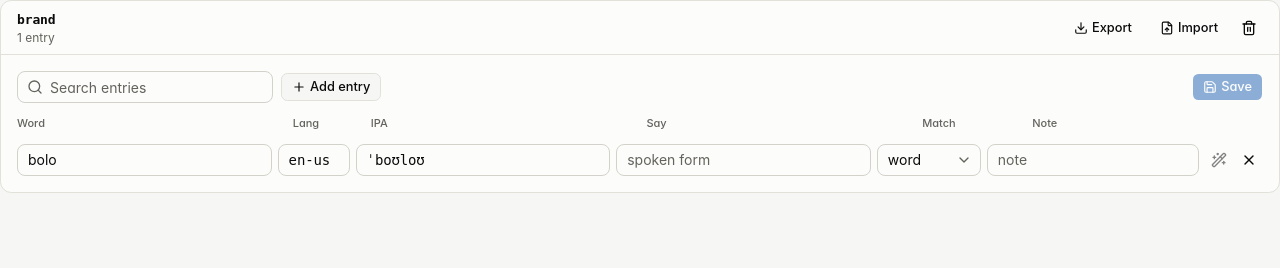
Scenario: WordListEditor › edits rows, saves TSV and shows warnings next to their rows
Check: the field showing "bolo" is shown, box [17, 144, 272, 176]
Check: the button with test id "wordlist-save" is disabled, box [1192, 73, 1263, 101]
Step 1. Click the button with test id "wordlist-add" → point(331, 87), box [281, 73, 381, 101]
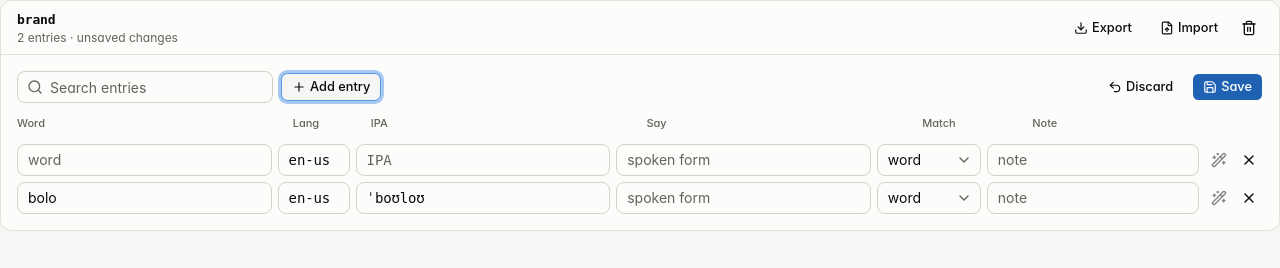
Step 2. Type "MH12" into the field named "Word, entry 1" → point(144, 160), box [17, 144, 272, 176]
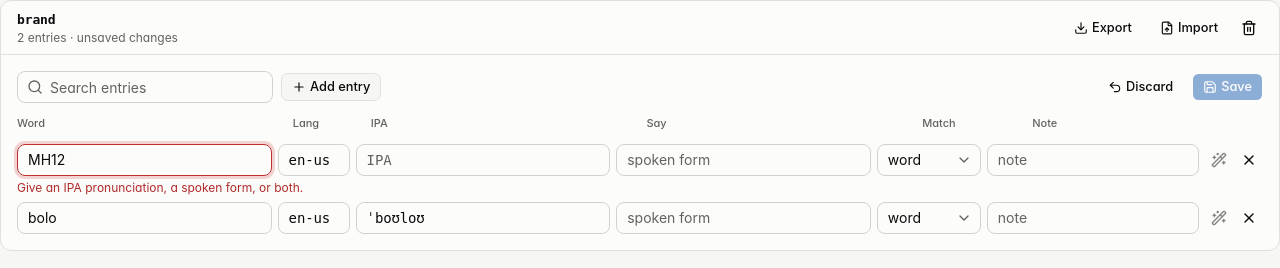
Check: the button with test id "wordlist-save" is disabled, box [1192, 73, 1263, 101]
Step 3. Type "em aitch twelve" into the field named "Say, entry 1" → point(744, 160), box [616, 144, 871, 176]
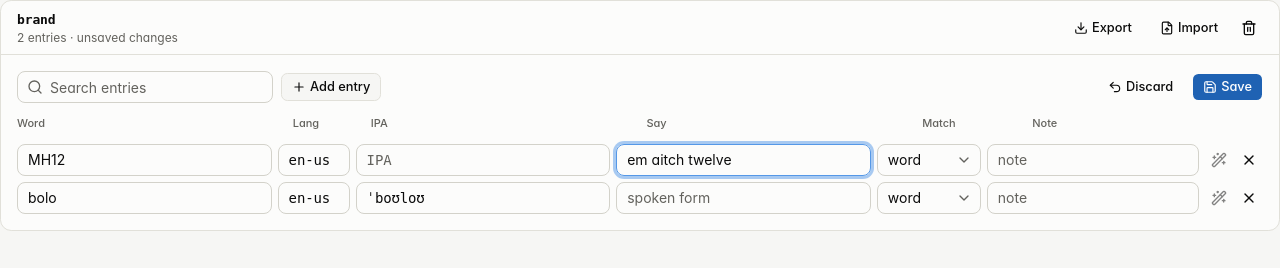
Step 4. Click the button with test id "wordlist-save" → point(1228, 87), box [1192, 73, 1263, 101]
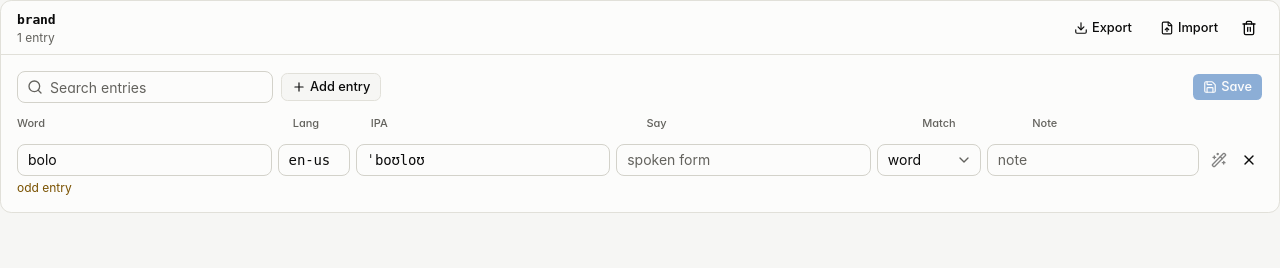
Check: the text "odd entry" is shown, box [17, 180, 72, 194]
